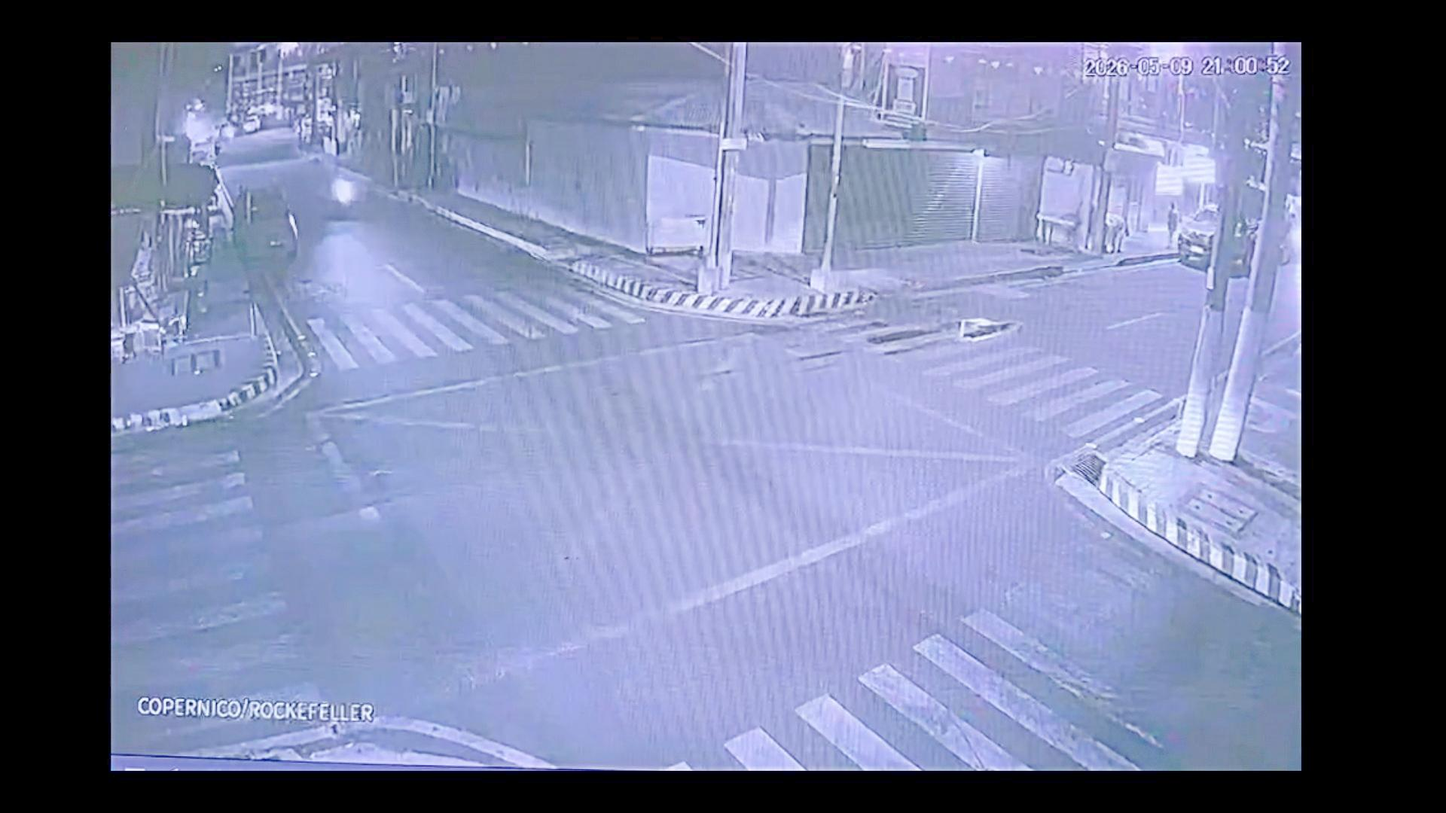Motor: (326, 169, 352, 220)
